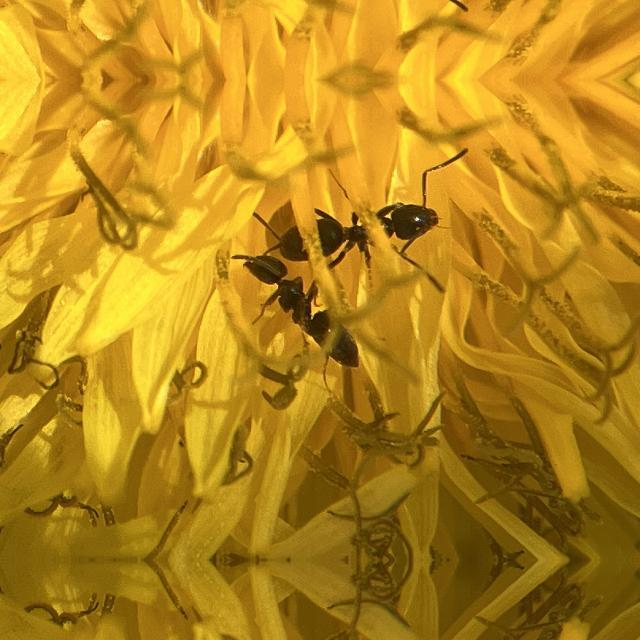Tapinoma: (222, 233, 386, 377), (274, 170, 466, 272)
